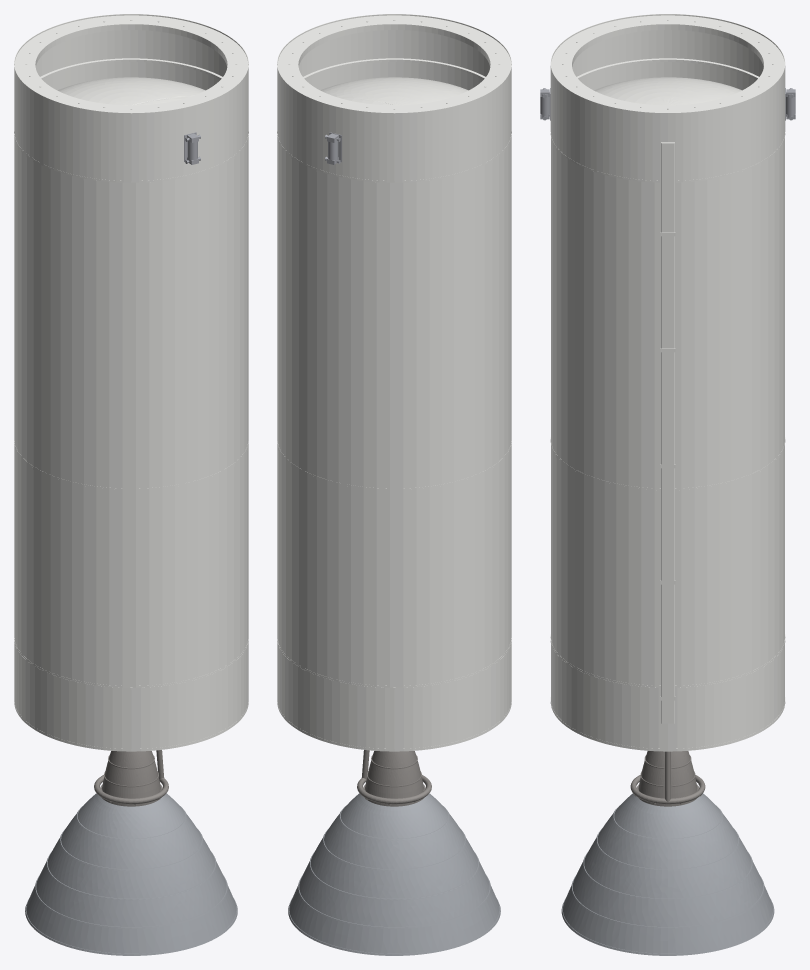
3 views of the same model, side by side, from view 1: azimuth 30°, elevation 25°; view 2: azimuth 150°, elevation 25°; view 3: azimuth 270°, elevation 25° (orthographic).
Parts seen in each view (by area): view 1: S2-010, S2-020, S2-050, ENG-MVAC-020, S2-040, ENG-M1D-020, ENG-MVAC-040; view 2: S2-010, S2-020, S2-050, ENG-MVAC-020, S2-040, ENG-M1D-020, ENG-MVAC-040; view 3: S2-010, S2-020, S2-050, ENG-MVAC-020, S2-040, S2-080, ENG-M1D-020, ENG-MVAC-040.
Boxes of the visible parts, box(x1,y1,x2,y2) form: S2-010: box(14, 77, 248, 490); S2-020: box(14, 443, 248, 687); S2-050: box(14, 14, 248, 182); ENG-MVAC-020: box(25, 793, 237, 955); S2-040: box(14, 641, 248, 751); ENG-M1D-020: box(101, 751, 161, 798); ENG-MVAC-040: box(94, 750, 168, 805); S2-010: box(277, 77, 511, 490); S2-020: box(277, 443, 511, 687); S2-050: box(277, 14, 511, 182); ENG-MVAC-020: box(288, 793, 500, 955); S2-040: box(277, 641, 511, 751); ENG-M1D-020: box(364, 751, 424, 798); ENG-MVAC-040: box(357, 750, 431, 805); S2-010: box(550, 77, 785, 490); S2-020: box(550, 441, 785, 687); S2-050: box(550, 14, 785, 182); ENG-MVAC-020: box(561, 793, 774, 955); S2-040: box(550, 638, 785, 751); S2-080: box(660, 142, 675, 723); ENG-M1D-020: box(637, 751, 698, 798); ENG-MVAC-040: box(630, 751, 705, 804).
Bounding box in the file's own units: 3.71 × 14.6 × 3.99.
3 materials, 3 textured.
